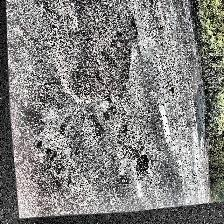pothole: (59, 14, 145, 110), (131, 155, 149, 179)
